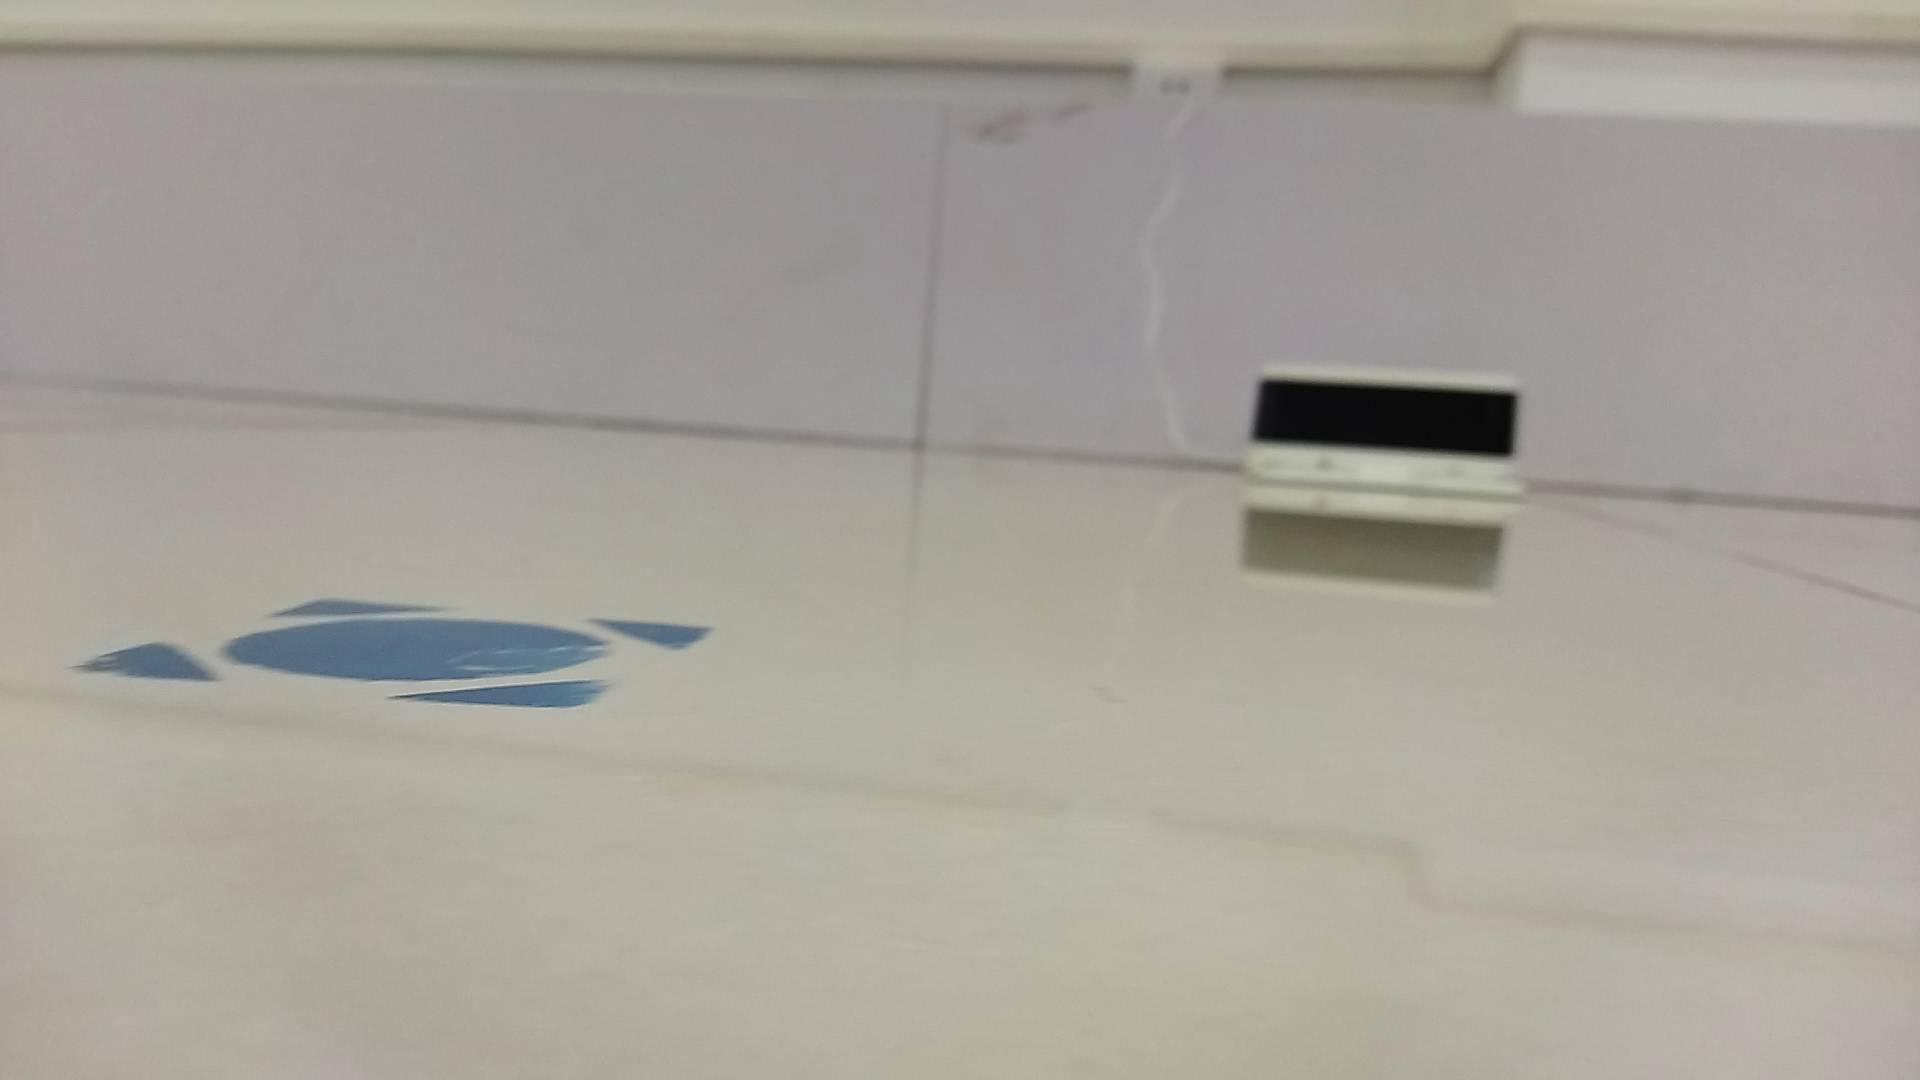recharge seat: (1237, 363, 1531, 498)
